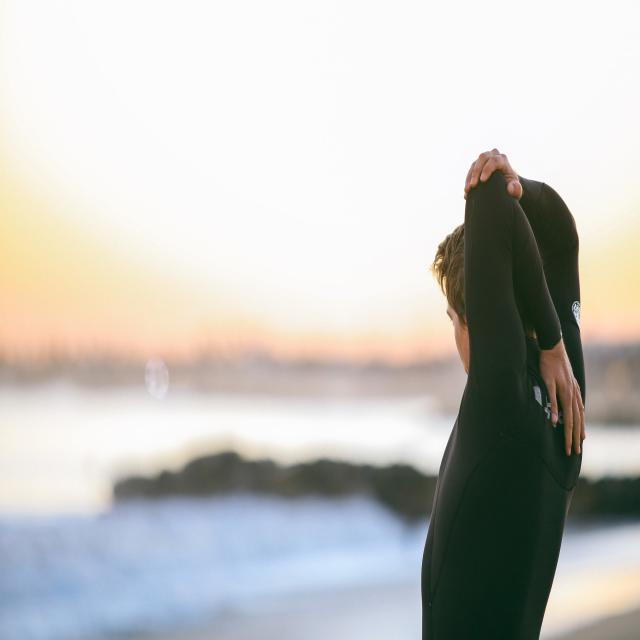adult: (416, 143, 590, 640)
